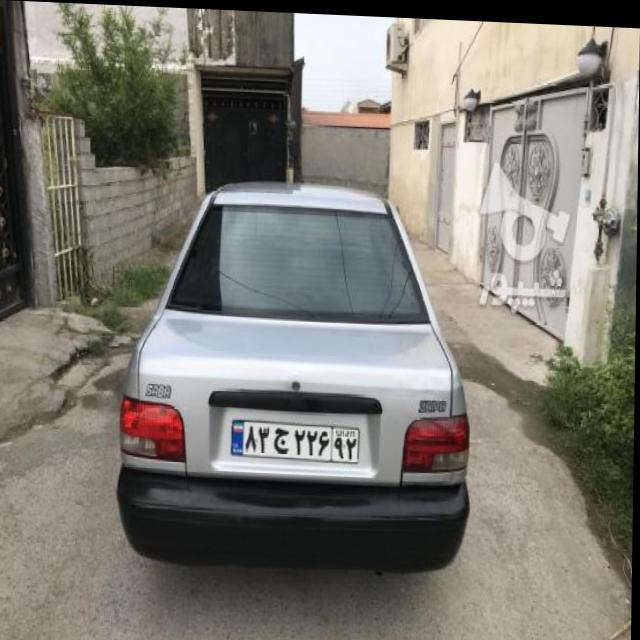licence: (231, 414, 361, 456)
